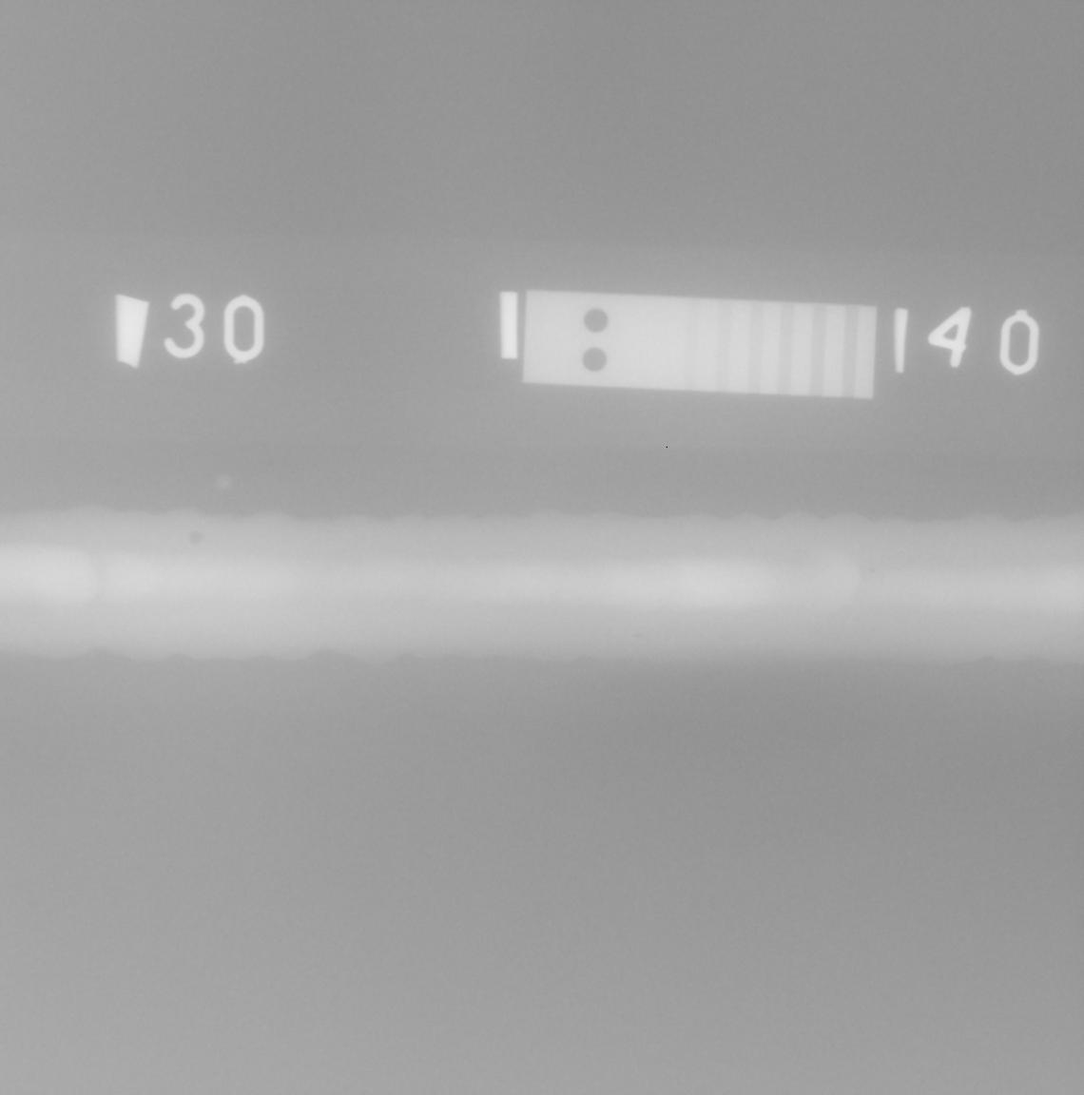Inclusion: (168, 549, 185, 556)
Pore/Porosity: (189, 531, 203, 545), (632, 633, 644, 638), (871, 569, 875, 574)
Reference Standard 2: (523, 289, 878, 400)
